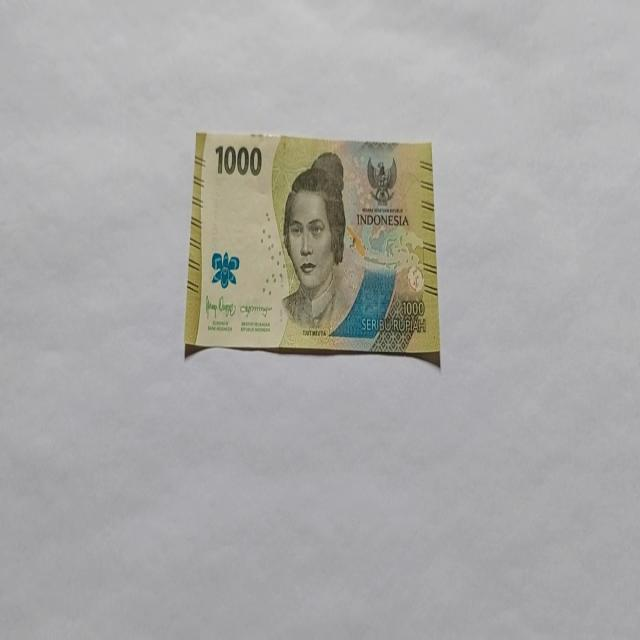seribu rupiah kertas: (183, 128, 441, 366)
